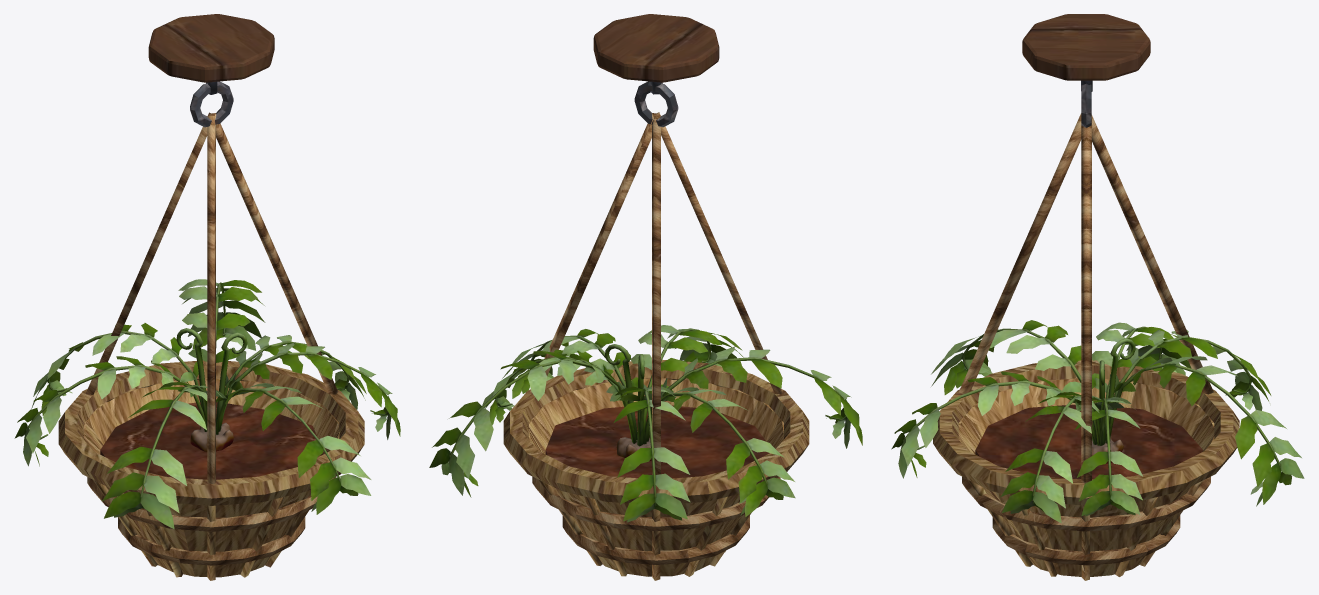
The model's file is fern_basket.glb.
The picture shows the model from 3 angles, left to right: view 1: azimuth 30°, elevation 25°; view 2: azimuth 150°, elevation 25°; view 3: azimuth 270°, elevation 25°; orthographic projection.
Parts seen in each view (by area): view 1: model; view 2: model; view 3: model.
Boxes of the visible parts, <box> form: model: <box>14,14,400,580</box>; model: <box>429,14,862,580</box>; model: <box>891,14,1304,580</box>.
Size of the model in its own units: 0.586 by 0.8738 by 0.6368.
9 materials, 9 textured.
